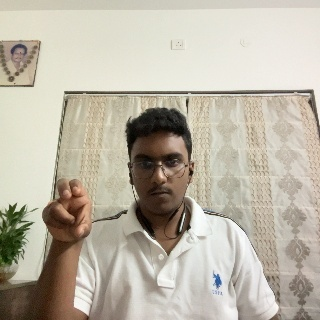Face: (125, 107, 195, 222)
No: (43, 178, 95, 266)
